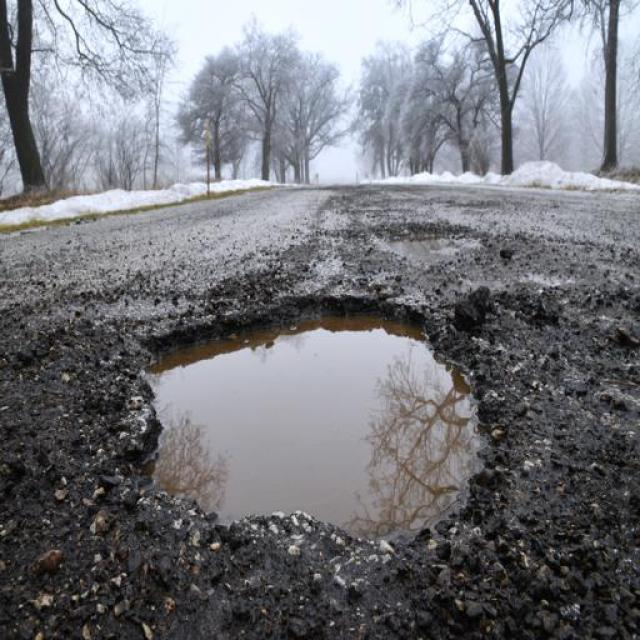puddle: (175, 327, 464, 523)
